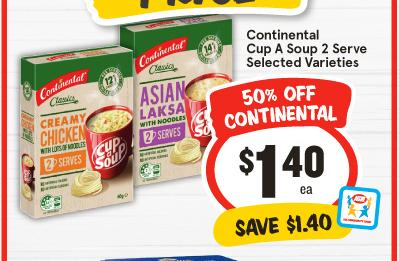description_block: (242, 23, 373, 73)
price_main: (221, 139, 341, 201)
product_image_block: (9, 24, 211, 228)
promo_text_block: (214, 205, 343, 243)
